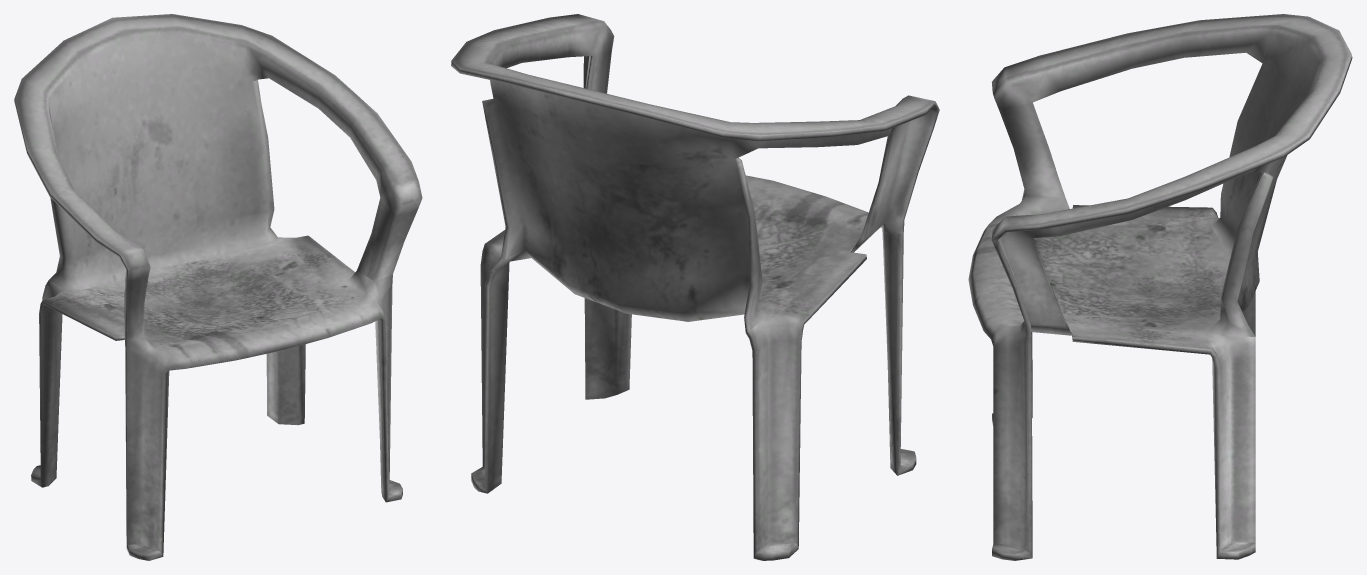
The model's file is plastic_chair.obj.
3 views of the same model, side by side, from view 1: azimuth 30°, elevation 25°; view 2: azimuth 150°, elevation 25°; view 3: azimuth 270°, elevation 25° (orthographic). The views are drawn at different scales.
Bounding box in the file's own units: 1.57 × 1.81 × 1.45.
Materials: 1 (1 with a texture image).
